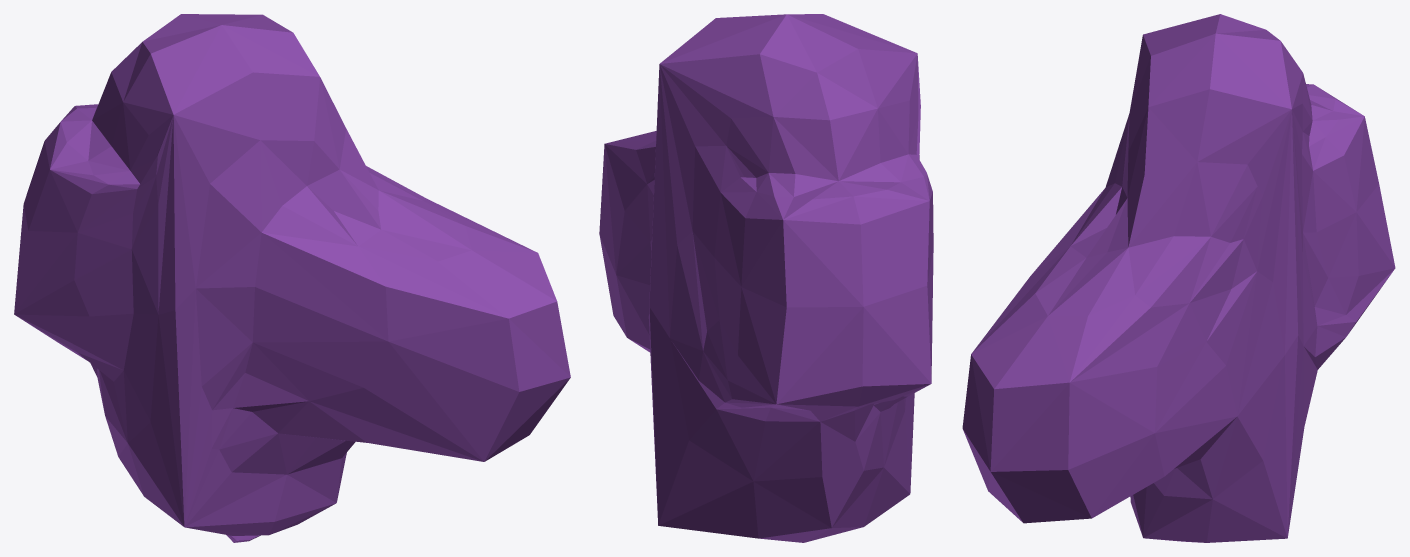
3 renders of one model, left to right at view 1: azimuth 30°, elevation 25°; view 2: azimuth 150°, elevation 25°; view 3: azimuth 270°, elevation 25°, orthographic. The views are drawn at different scales.
Parts seen in each view (by area): view 1: 215_Cube.887; view 2: 215_Cube.887; view 3: 215_Cube.887.
Boxes of the visible parts, x1,y1,x2,y2 form: 215_Cube.887: (14,14,570,542); 215_Cube.887: (599,14,933,542); 215_Cube.887: (962,14,1395,542).
Bounding box in the file's own units: 10.54 × 11.92 × 9.5.
